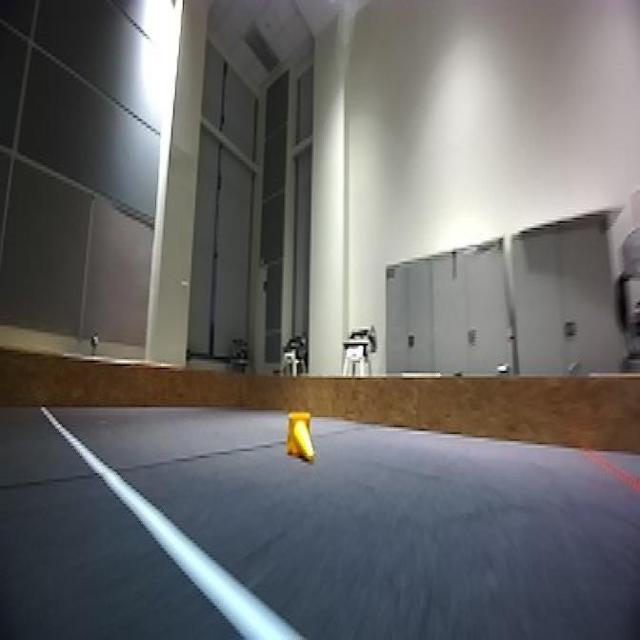frc_cone: (285, 414, 313, 461)
